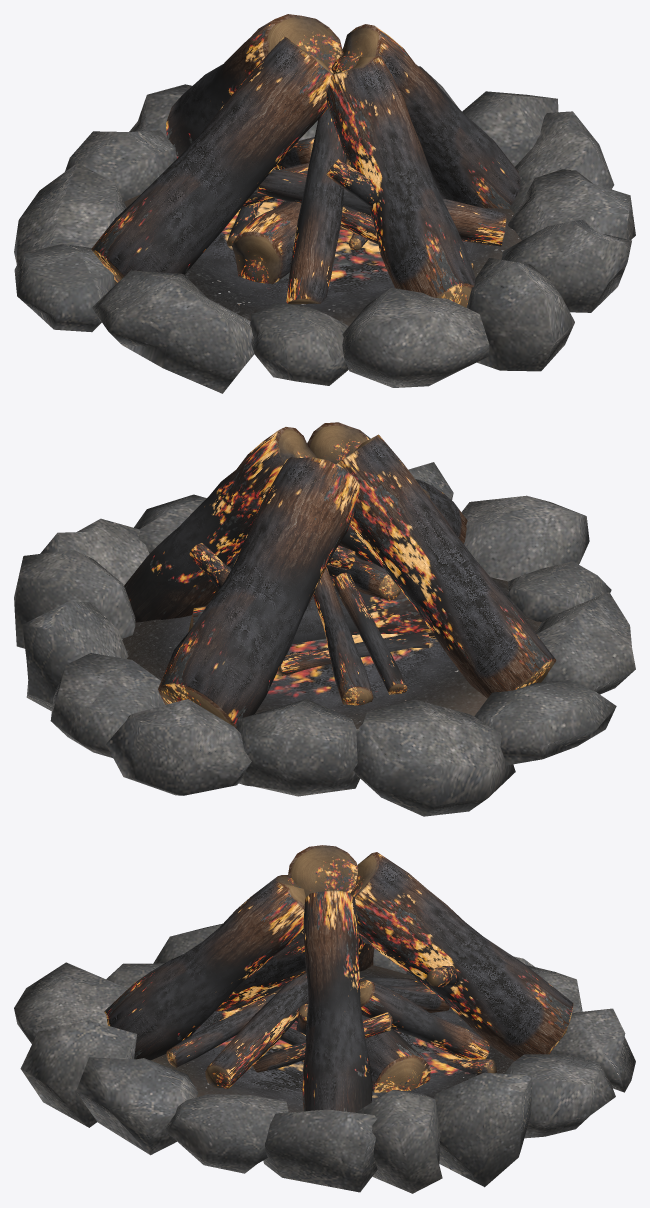
Rendered from campfire.glb.
3 renders of one model, top to bottom at view 1: azimuth 30°, elevation 25°; view 2: azimuth 150°, elevation 25°; view 3: azimuth 270°, elevation 25°, orthographic. The views are drawn at different scales.
Visible parts, largest first — view 1: CampFire; view 2: CampFire; view 3: CampFire.
Part boxes in pixels (x1,y1,x2,y2): CampFire: (14,14,635,393); CampFire: (14,422,635,816); CampFire: (14,845,635,1193).
Size of the model in its own units: 1.68 by 0.7963 by 1.78.
Materials: 3 (3 with a texture image).
